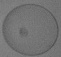small: (20, 27, 29, 37)
